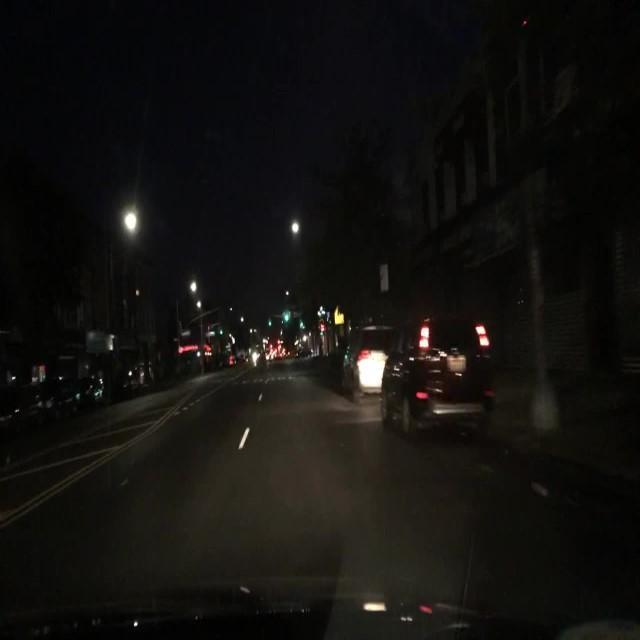normal: (378, 339, 496, 440)
